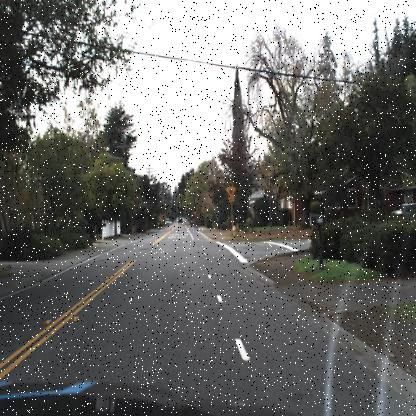car: (191, 219, 196, 226), (176, 218, 179, 222), (169, 221, 172, 224)
truck: (178, 216, 186, 224), (165, 218, 170, 226)
